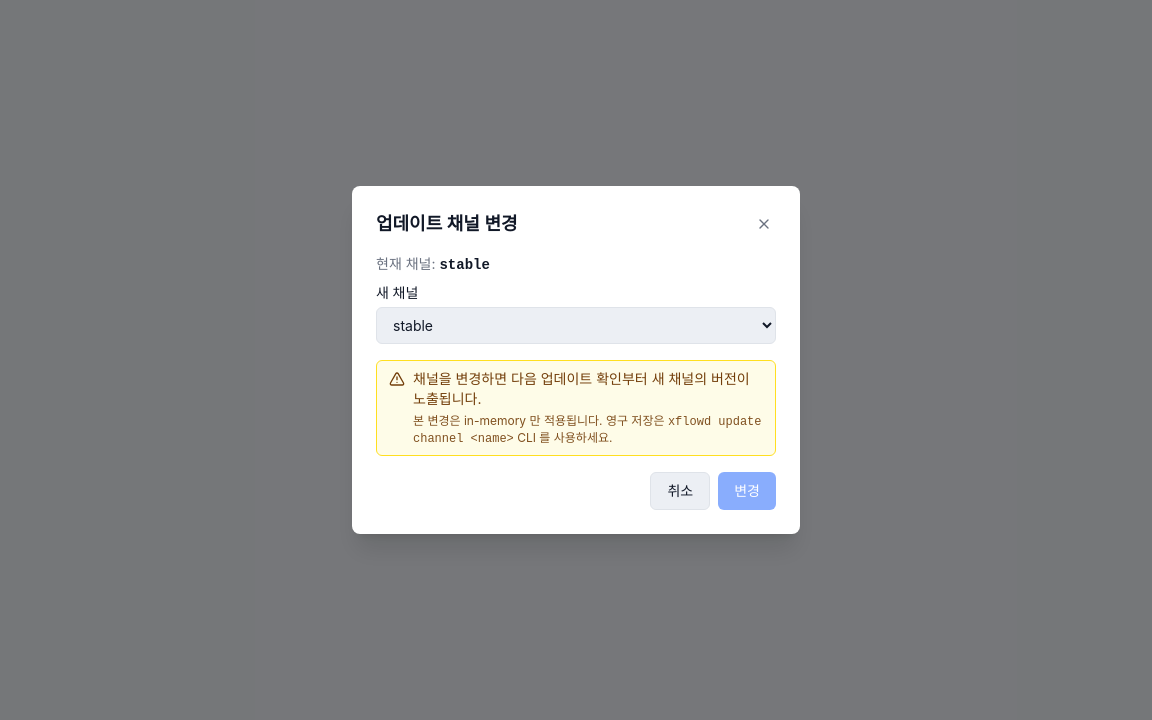
Test case: ChannelChangeDialog — 동일 채널 disabled › 새 채널이 현재 채널과 동일하면 confirm 버튼이 disabled 이다
Expected: the button with test id "channel-dialog-confirm" is disabled, x1=718 y1=472 x2=776 y2=510
beta 로 바꾸면 enabled.
Select "beta" in the dropdown with test id "channel-select" at point(576, 326), box x1=376 y1=307 x2=776 y2=344
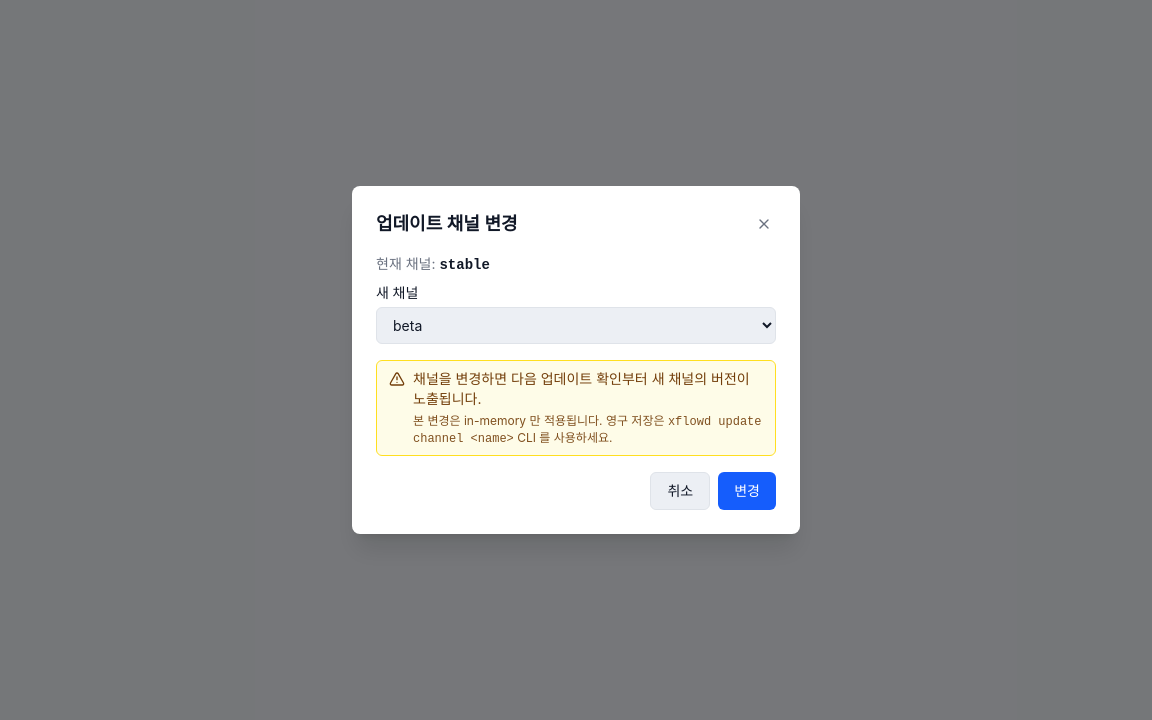
Expected: the button with test id "channel-dialog-confirm" is enabled, x1=718 y1=472 x2=776 y2=510
